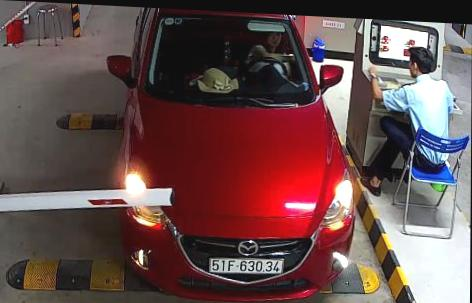License_Plate: (206, 254, 286, 280)
